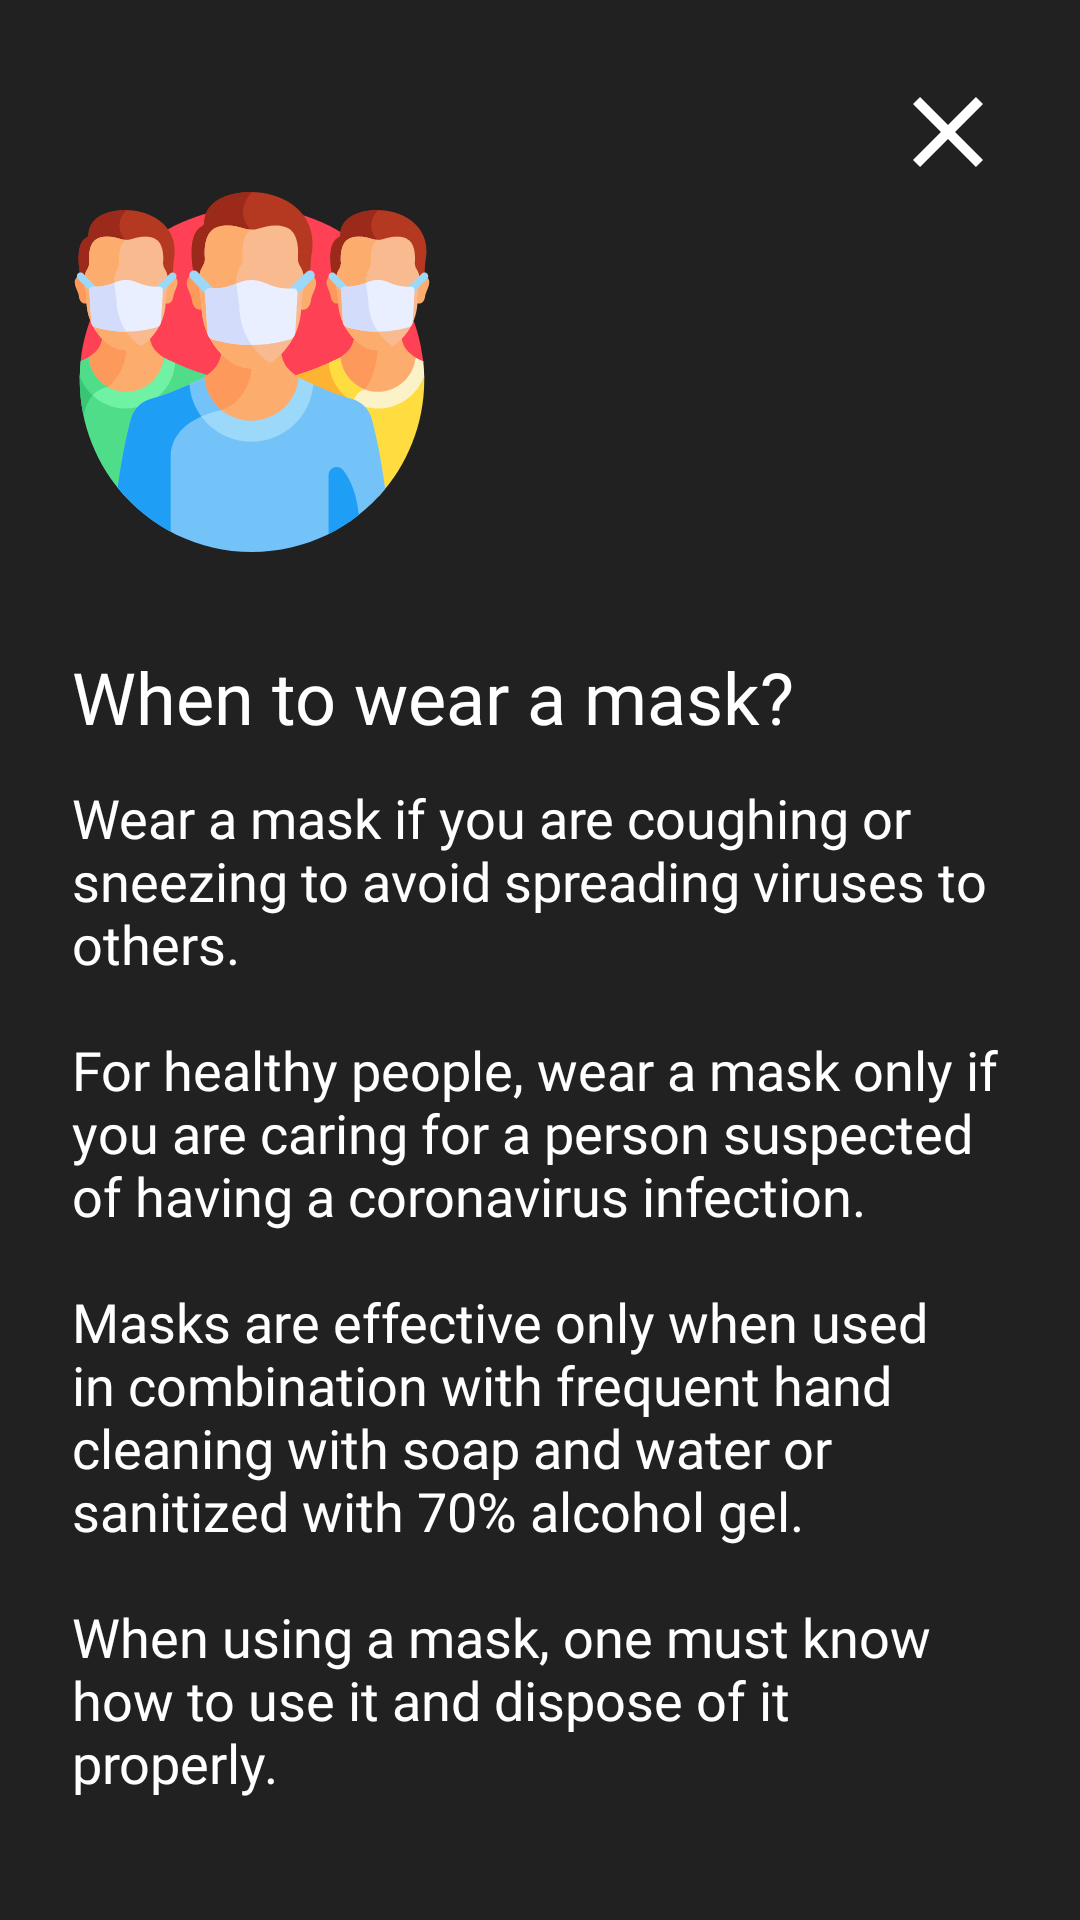

Icon click points for this 1080x1920 phone screenshot, format (x,y):
close: (948,132)
